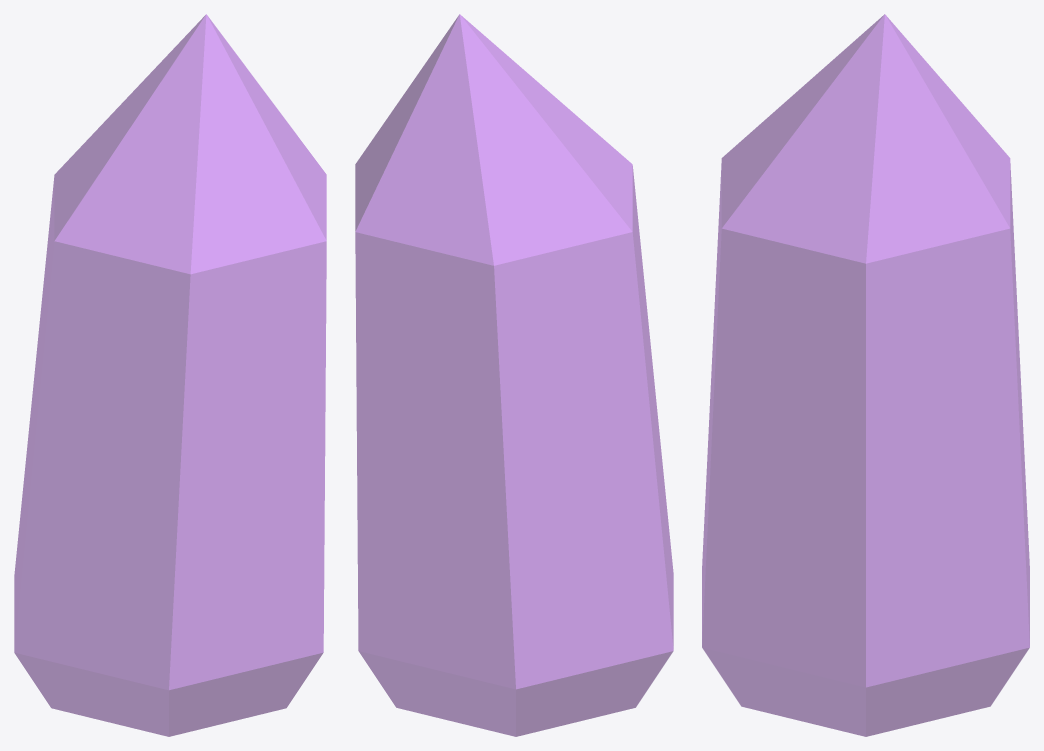
Rendered from purple-crystal.glb.
3 views of the same model, side by side, from view 1: azimuth 30°, elevation 25°; view 2: azimuth 150°, elevation 25°; view 3: azimuth 270°, elevation 25° (orthographic). The views are drawn at different scales.
Parts seen in each view (by area): view 1: Purple Crystal; view 2: Purple Crystal; view 3: Purple Crystal.
Part boxes in pixels (x1,y1,x2,y2): Purple Crystal: [14, 14, 326, 736]; Purple Crystal: [355, 14, 673, 736]; Purple Crystal: [702, 14, 1029, 736].
Size of the model in its own units: 0.505 by 1 by 0.433.
